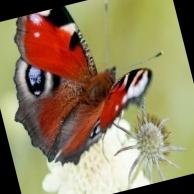butterfly: (13, 5, 151, 163)
